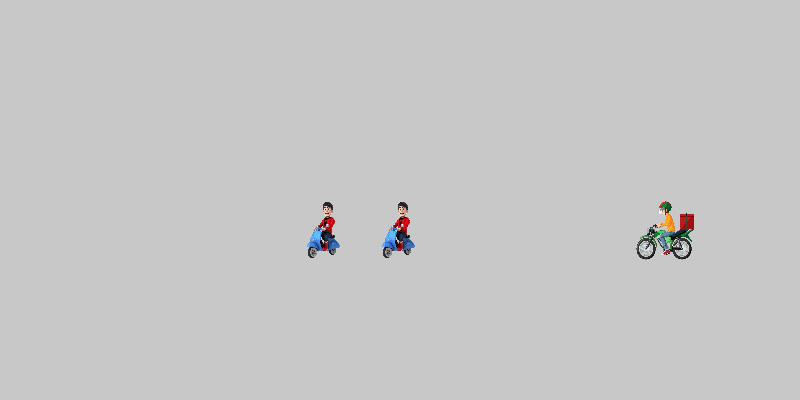helmet: (635, 200, 695, 260)
no_helmet: (295, 200, 355, 260), (370, 200, 430, 260)
